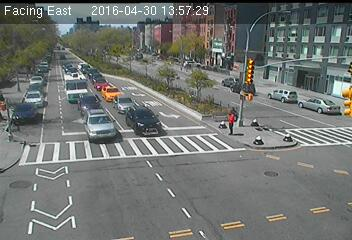neg: (158, 71, 195, 120), (79, 146, 106, 183), (95, 78, 122, 114), (47, 102, 72, 135), (251, 134, 275, 166), (301, 71, 325, 102), (238, 64, 261, 95), (137, 176, 159, 206), (47, 32, 69, 61), (277, 124, 295, 149), (246, 178, 264, 203), (200, 163, 215, 183), (139, 71, 153, 89)
pos: (223, 112, 240, 134)
